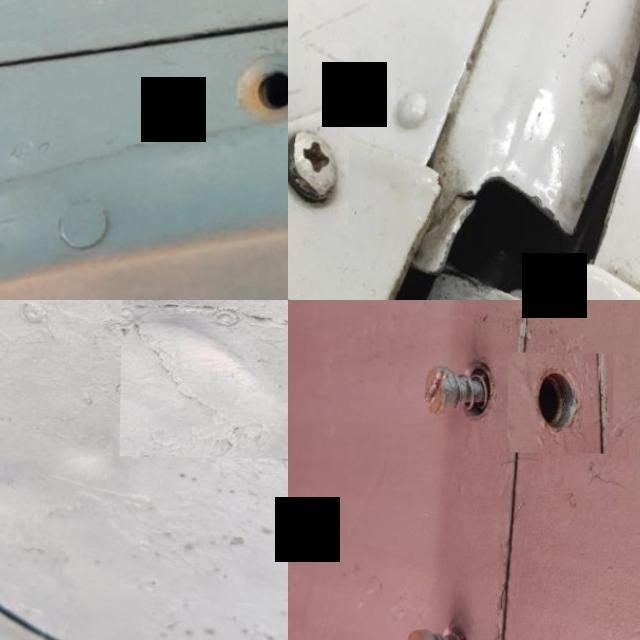Crack: (288, 41, 351, 226)
Dent: (120, 300, 288, 457), (0, 427, 55, 553)
Missing_Fastener: (508, 352, 614, 452), (205, 27, 288, 150)
